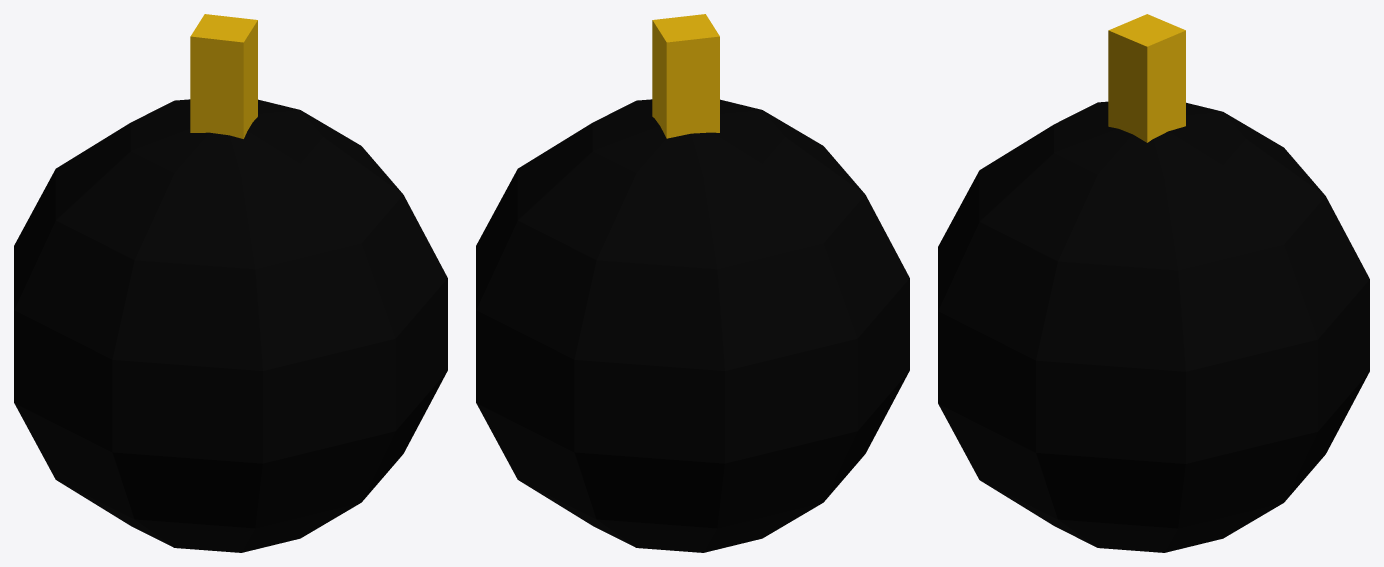
Rendered from Bomb.fbx.
3 renders of one model, left to right at view 1: azimuth 30°, elevation 25°; view 2: azimuth 150°, elevation 25°; view 3: azimuth 270°, elevation 25°, orthographic.
Visible parts, largest first — view 1: Cylinder; view 2: Cylinder; view 3: Cylinder.
Part boxes in pixels (<box>): Cylinder: <box>14,14,447,552</box>; Cylinder: <box>476,14,909,552</box>; Cylinder: <box>938,14,1369,552</box>.
Bounding box in the file's own units: 192 × 242 × 189.
